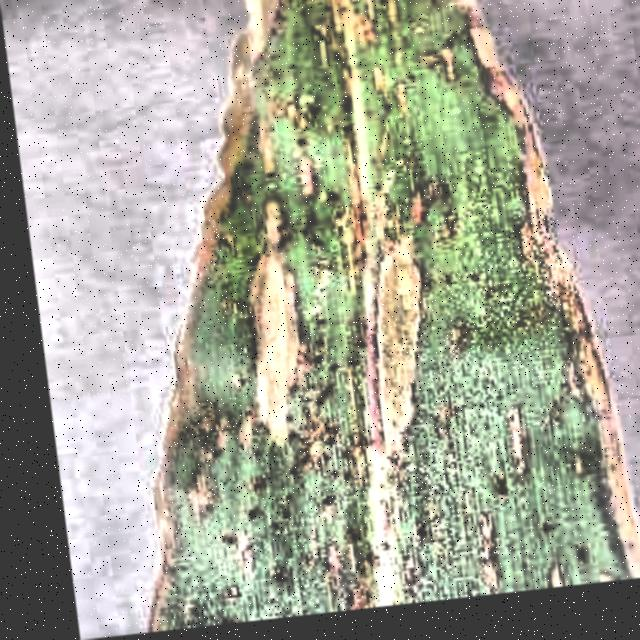blight: (94, 0, 625, 630)
